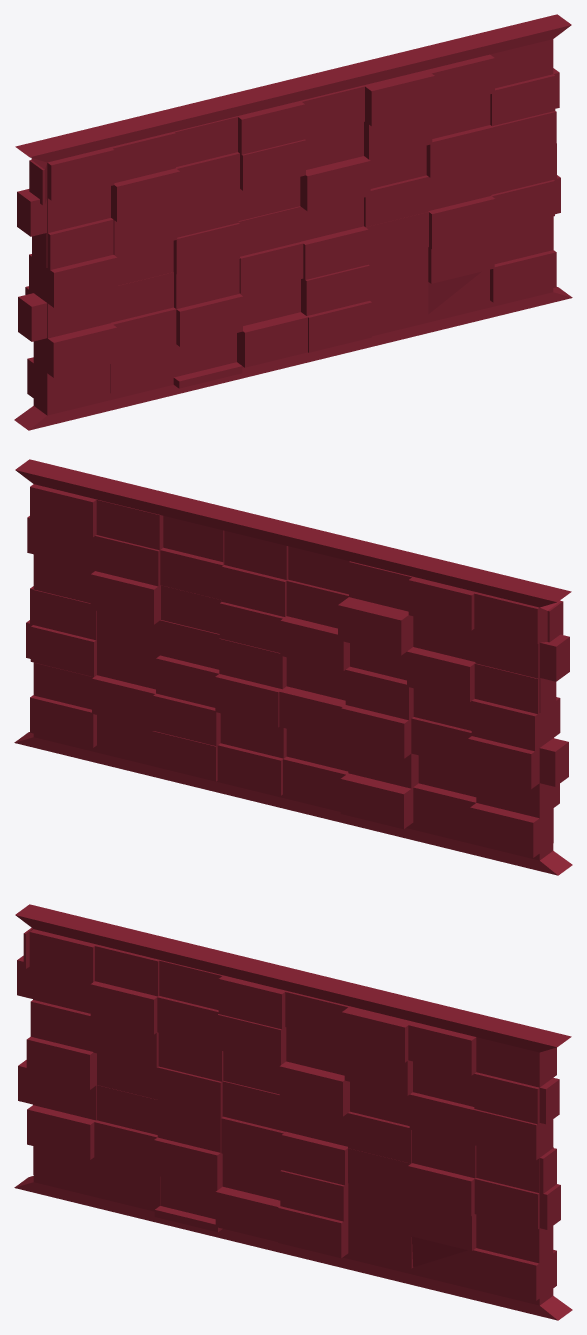
The model's file is wall2.dae.
3 renders of one model, top to bottom at view 1: azimuth 30°, elevation 25°; view 2: azimuth 150°, elevation 25°; view 3: azimuth 330°, elevation 25°, orthographic.
Parts seen in each view (by area): view 1: Cube; view 2: Cube; view 3: Cube.
Boxes of the visible parts, box(x1,y1,x2,y2) form: Cube: box(14, 14, 572, 430); Cube: box(14, 459, 572, 875); Cube: box(14, 904, 572, 1320).
Size of the model in its own units: 30.61 by 3.32 by 14.68.
